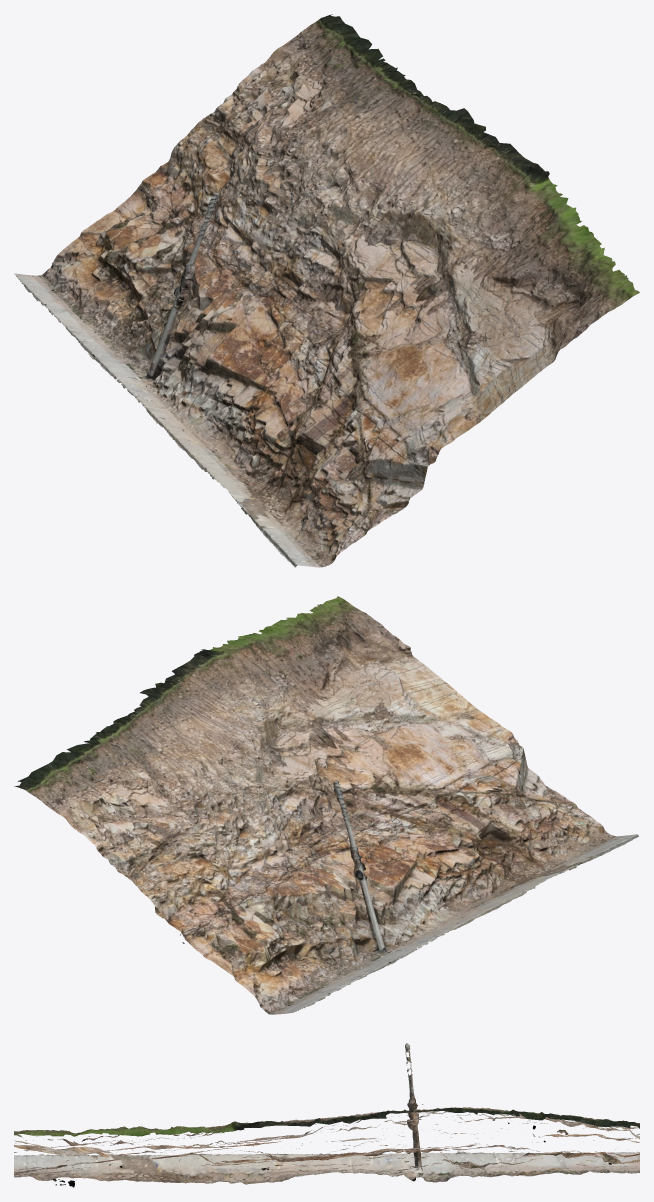
3 views of the same model, one above another, from view 1: azimuth 30°, elevation 25°; view 2: azimuth 150°, elevation 25°; view 3: azimuth 270°, elevation 25° (orthographic). The views are drawn at different scales.
Bounding box in the file's own units: 13.05 × 7.52 × 20.22.
2 materials, 2 textured.
